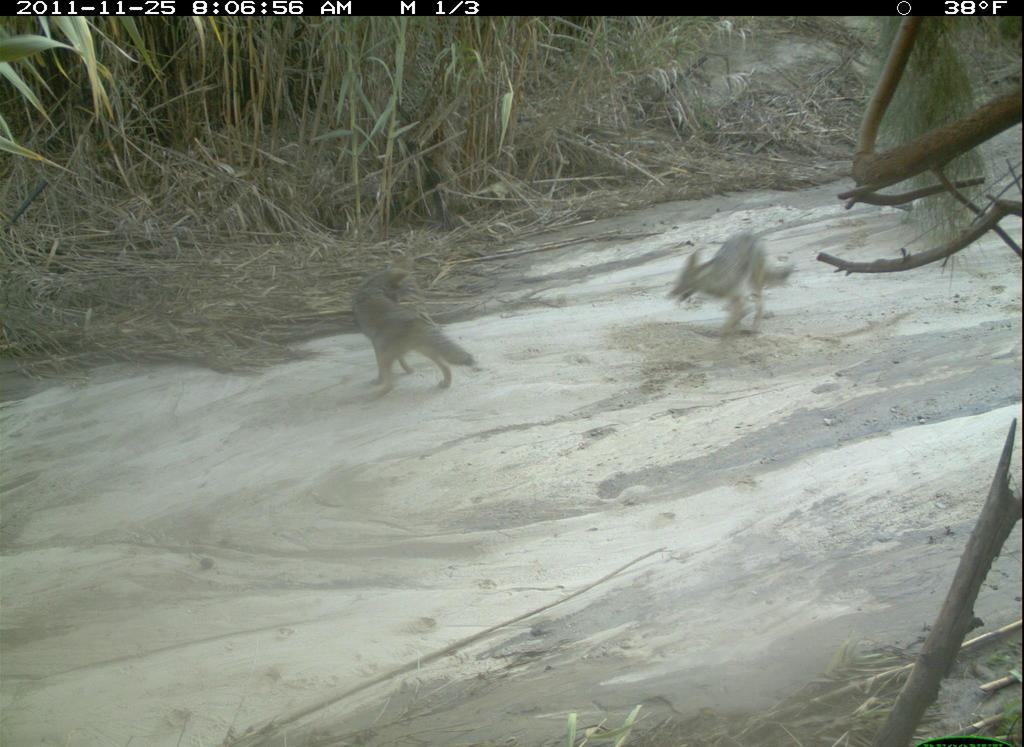coyote: (337, 257, 502, 393), (674, 228, 809, 341)
